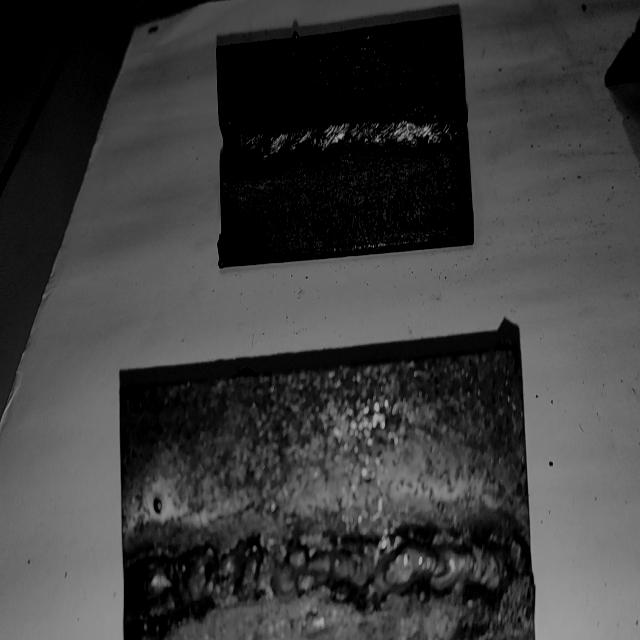Good Weld: (132, 532, 537, 629), (221, 100, 466, 156)
